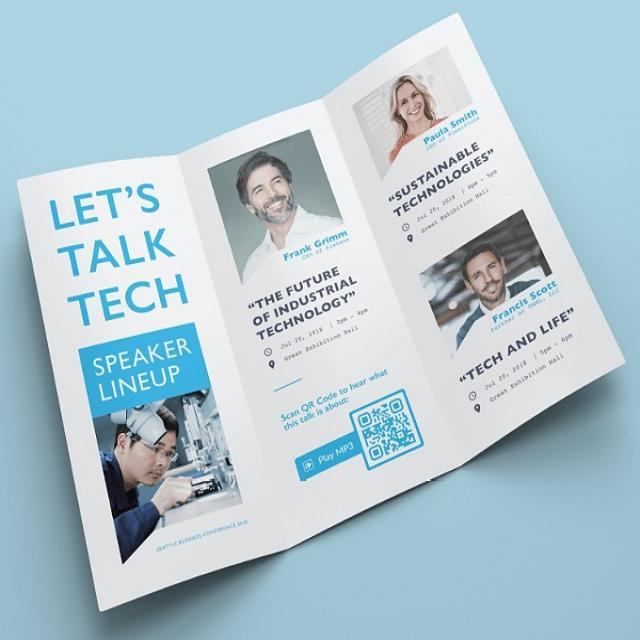qr_code: (358, 397, 417, 461)
